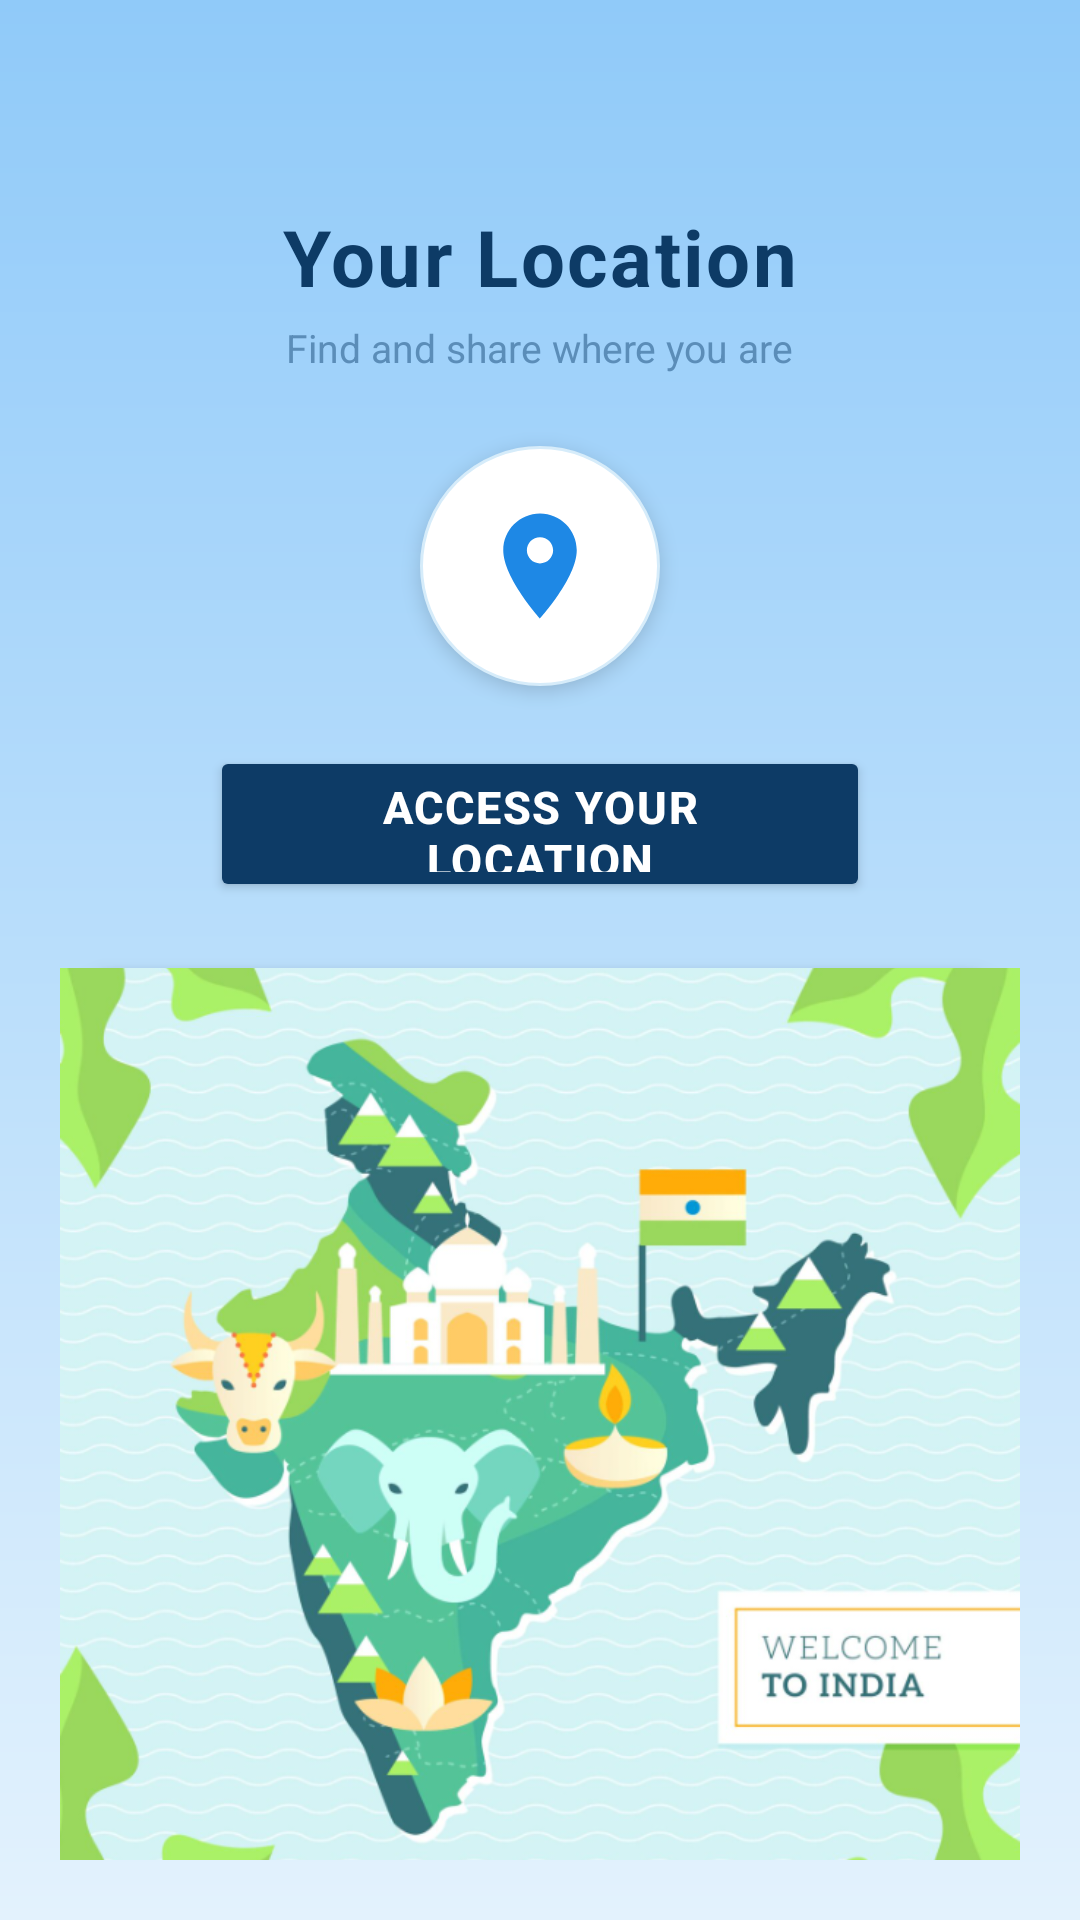

Screen size 1080 × 1920. Icon name, then its box in pixels as (x1, y1, x2, y2):
Map Icon: (503, 513, 577, 619)
